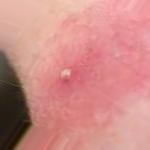Ants: (54, 63, 77, 90)
